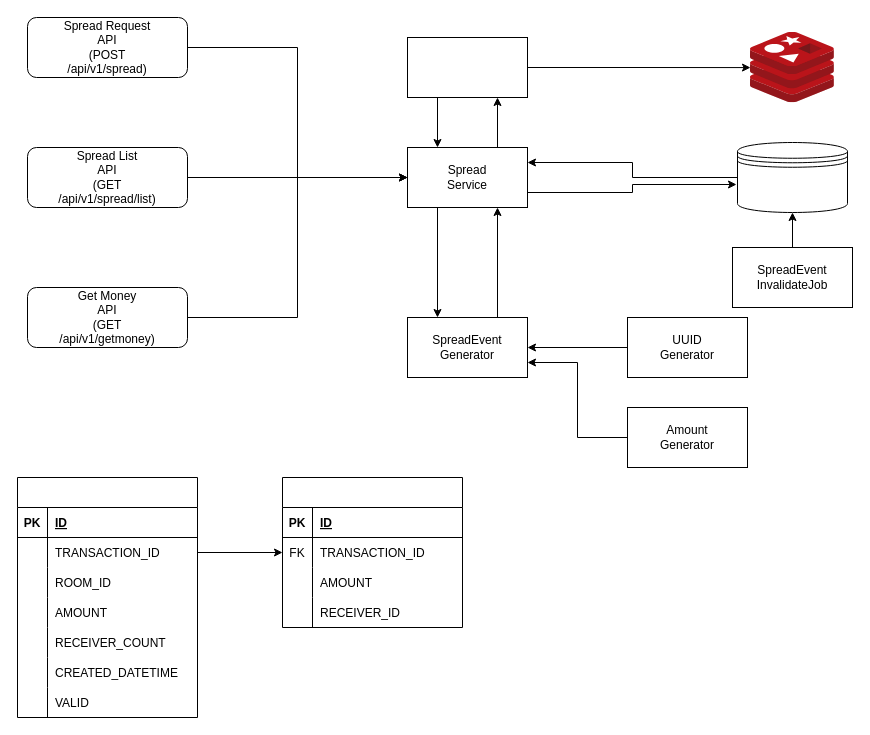
Some shapes in this 870 by 735 pixel diagram are drawn without their labels. Here are the shapes that lost their labels. From the top down, the box of each, then its label:
(406, 36, 528, 98): SpreadEvent Validator
(736, 142, 848, 212): RDB
(282, 476, 462, 628): SPREAD_AMOUNT
(16, 476, 198, 718): SPREAD_EVENT
